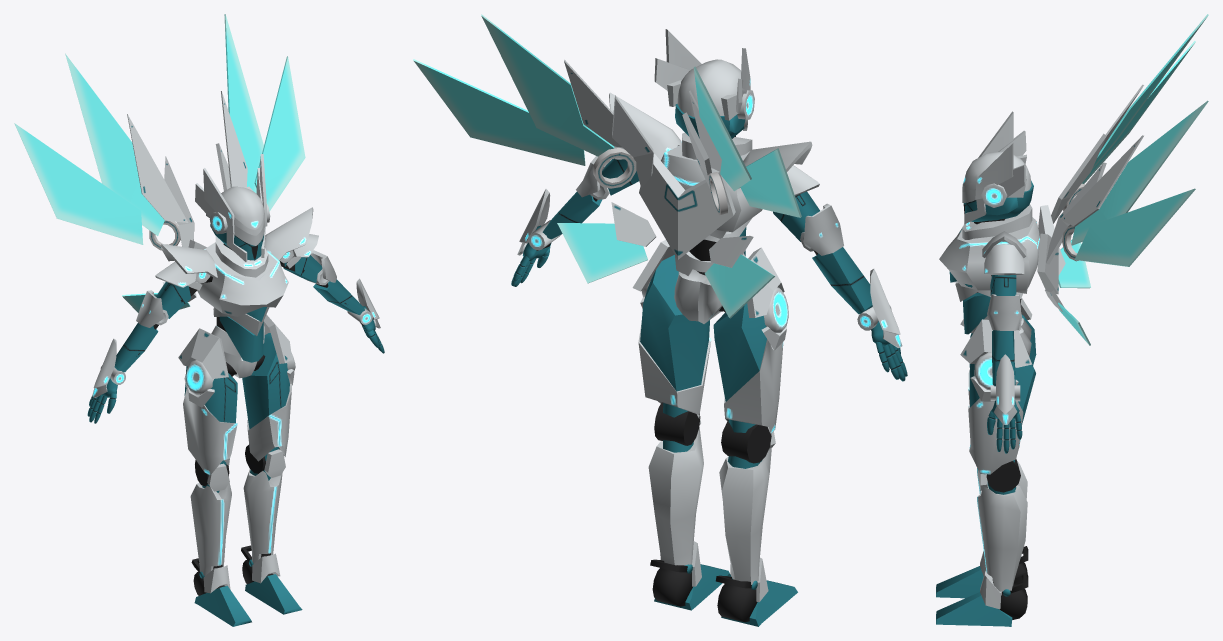
File: Female_02.glb
3 views of the same model, side by side, from view 1: azimuth 30°, elevation 25°; view 2: azimuth 150°, elevation 25°; view 3: azimuth 270°, elevation 25° (orthographic). The views are drawn at different scales.
Visible parts, largest first — view 1: W1, WW2, WW1, GNG, BR1, GV2, GV1, NT, BR2, GV1.1, ARM1; view 2: W1, WW2, WW1, GNG, GV2, BR1, GV1, ARM1, BR2; view 3: W1, WW2, WW1, GNG, BR2, NT, GV2.2, ARM2, GV2.
Boxes of the visible parts, x1,y1,x2,y2 form: W1: [87, 154, 384, 626]; WW2: [14, 14, 305, 312]; WW1: [127, 91, 247, 301]; GNG: [197, 242, 288, 321]; BR1: [178, 328, 228, 378]; GV2: [265, 207, 313, 260]; GV1: [161, 244, 217, 279]; NT: [215, 236, 268, 277]; BR2: [263, 314, 292, 363]; GV1.1: [155, 262, 196, 287]; ARM1: [93, 338, 116, 387]; W1: [511, 29, 907, 626]; WW2: [413, 14, 801, 318]; WW1: [564, 59, 753, 267]; GNG: [661, 144, 762, 238]; GV2: [609, 92, 681, 160]; BR1: [747, 247, 784, 317]; GV1: [739, 141, 812, 188]; ARM1: [870, 268, 900, 334]; BR2: [632, 240, 674, 291]; W1: [936, 111, 1036, 626]; WW2: [1058, 14, 1208, 345]; WW1: [1037, 84, 1143, 311]; GNG: [939, 217, 1039, 293]; BR2: [960, 319, 1032, 367]; NT: [962, 204, 1032, 239]; GV2.2: [984, 244, 1024, 275]; ARM2: [996, 354, 1014, 414]; GV2: [982, 231, 1026, 257].
Size of the model in its own units: 3.6 by 5.8 by 2.62.
Materials: 2 (2 with a texture image).
